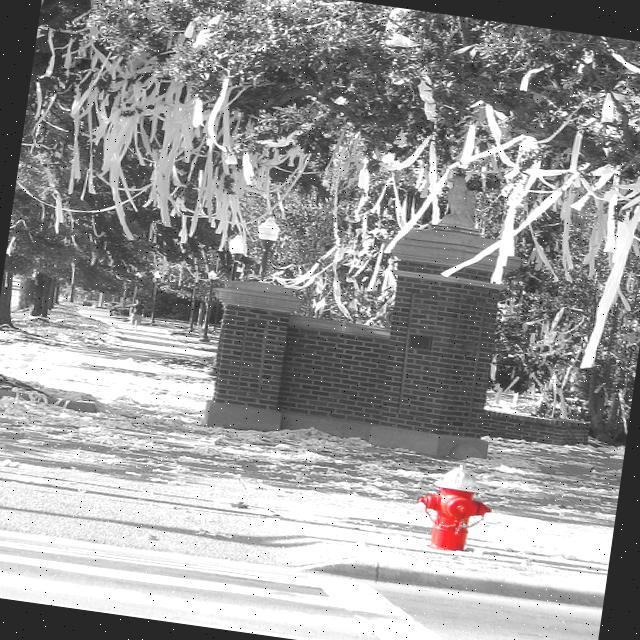fire_hydrant: (409, 458, 500, 556)
